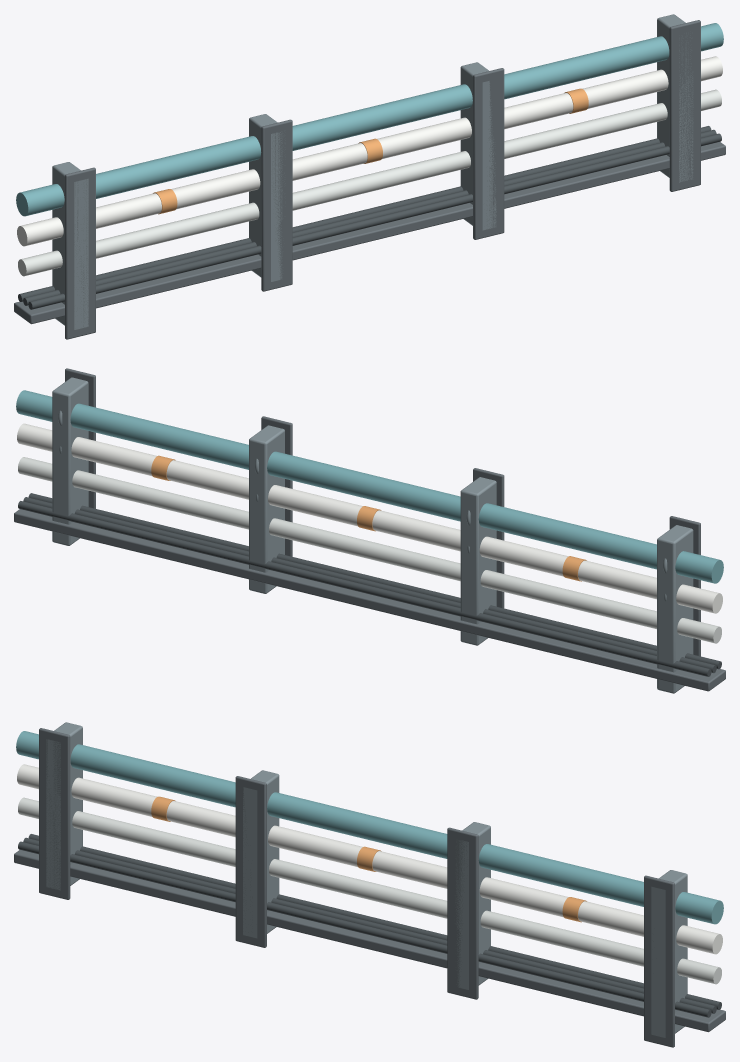
The model's file is utility_conduit.glb.
The picture shows the model from 3 angles, top to bottom: view 1: azimuth 30°, elevation 25°; view 2: azimuth 150°, elevation 25°; view 3: azimuth 330°, elevation 25°; orthographic projection.
Parts seen in each view (by area): view 1: pipe_teal, pipe_white_painted, cables_black_rubber, pipe_satin_steel, cable_tray_graphite, bracket_3_foot_graphite, bracket_1_foot_graphite, bracket_2_foot_graphite, bracket_0_foot_graphite, bracket_0_dark_alloy, bracket_2_dark_alloy, bracket_1_dark_alloy (+2 smaller); view 2: pipe_teal, pipe_white_painted, cables_black_rubber, pipe_satin_steel, cable_tray_graphite, bracket_1_dark_alloy, bracket_3_dark_alloy, bracket_0_dark_alloy, bracket_2_dark_alloy, oxygen_bands_orange, bracket_1_foot_graphite, bracket_0_foot_graphite (+2 smaller); view 3: pipe_teal, pipe_white_painted, cables_black_rubber, pipe_satin_steel, cable_tray_graphite, bracket_2_foot_graphite, bracket_0_foot_graphite, bracket_0_dark_alloy, bracket_3_dark_alloy, bracket_1_dark_alloy, bracket_1_foot_graphite, bracket_3_foot_graphite (+2 smaller).
Part boxes in pixels (x1,y1,x2,y2): pipe_teal: [16, 23, 723, 216]; pipe_white_painted: [17, 56, 722, 246]; cables_black_rubber: [18, 126, 721, 309]; pipe_satin_steel: [18, 89, 721, 276]; cable_tray_graphite: [14, 142, 725, 324]; bracket_3_foot_graphite: [669, 20, 700, 191]; bracket_1_foot_graphite: [261, 119, 292, 291]; bracket_2_foot_graphite: [473, 68, 504, 239]; bracket_0_foot_graphite: [65, 167, 95, 339]; bracket_0_dark_alloy: [52, 162, 88, 329]; bracket_2_dark_alloy: [460, 62, 496, 230]; bracket_1_dark_alloy: [249, 114, 285, 281]; pipe_teal: [16, 390, 723, 583]; pipe_white_painted: [17, 423, 722, 613]; cables_black_rubber: [18, 493, 721, 676]; pipe_satin_steel: [18, 457, 721, 643]; cable_tray_graphite: [14, 509, 725, 691]; bracket_1_dark_alloy: [460, 477, 496, 645]; bracket_3_dark_alloy: [52, 377, 88, 545]; bracket_0_dark_alloy: [657, 525, 693, 693]; bracket_2_dark_alloy: [249, 425, 284, 593]; oxygen_bands_orange: [151, 455, 586, 581]; bracket_1_foot_graphite: [473, 468, 504, 608]; bracket_0_foot_graphite: [669, 516, 700, 656]; pipe_teal: [16, 731, 723, 924]; pipe_white_painted: [17, 764, 722, 954]; cables_black_rubber: [18, 834, 721, 1017]; pipe_satin_steel: [18, 797, 721, 984]; cable_tray_graphite: [14, 850, 725, 1032]; bracket_2_foot_graphite: [447, 827, 478, 999]; bracket_0_foot_graphite: [39, 728, 70, 899]; bracket_0_dark_alloy: [46, 722, 82, 890]; bracket_3_dark_alloy: [651, 870, 687, 1037]; bracket_1_dark_alloy: [243, 770, 279, 938]; bracket_1_foot_graphite: [235, 776, 266, 947]; bracket_3_foot_graphite: [644, 875, 674, 1047].
Bounding box in the file's own units: 2.3 × 0.52 × 0.13.
